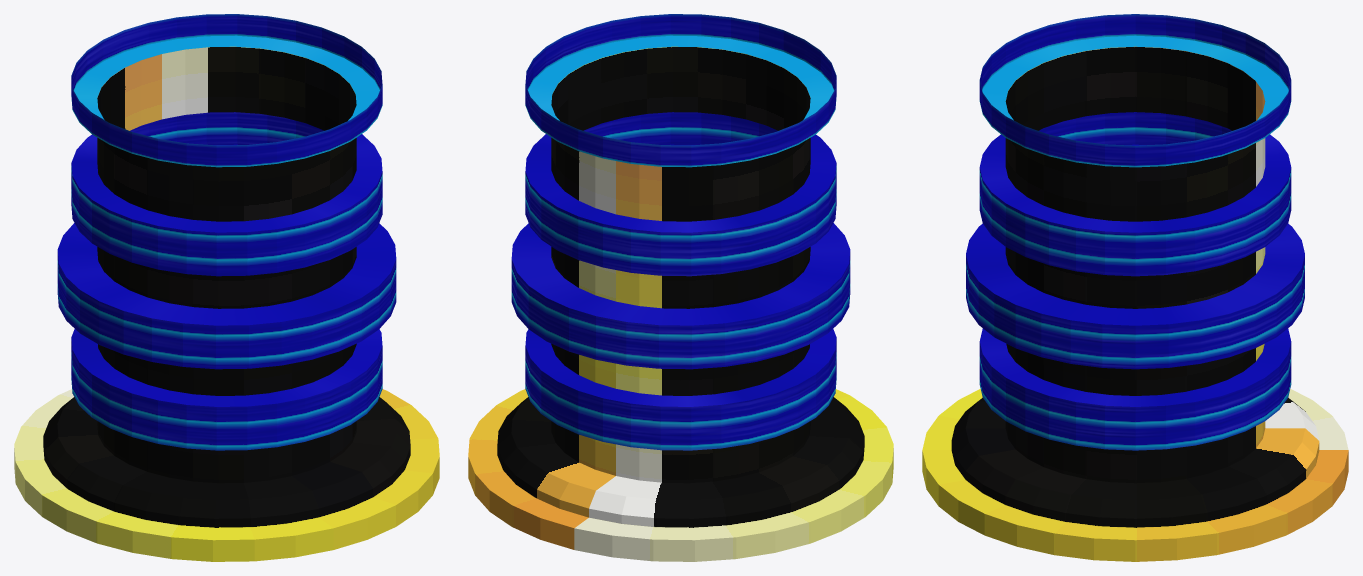
Rendered from temporal_connection_amplifier_bottom.obj.
3 renders of one model, left to right at view 1: azimuth 30°, elevation 25°; view 2: azimuth 150°, elevation 25°; view 3: azimuth 270°, elevation 25°, orthographic.
Visible parts, largest first — view 1: Cylinder.001; view 2: Cylinder.001; view 3: Cylinder.001.
Boxes of the visible parts, bbox=[...] form: Cylinder.001: bbox=[14, 14, 439, 561]; Cylinder.001: bbox=[468, 14, 893, 561]; Cylinder.001: bbox=[922, 14, 1348, 561].
Size of the model in its own units: 0.9851 by 1 by 0.9851.
